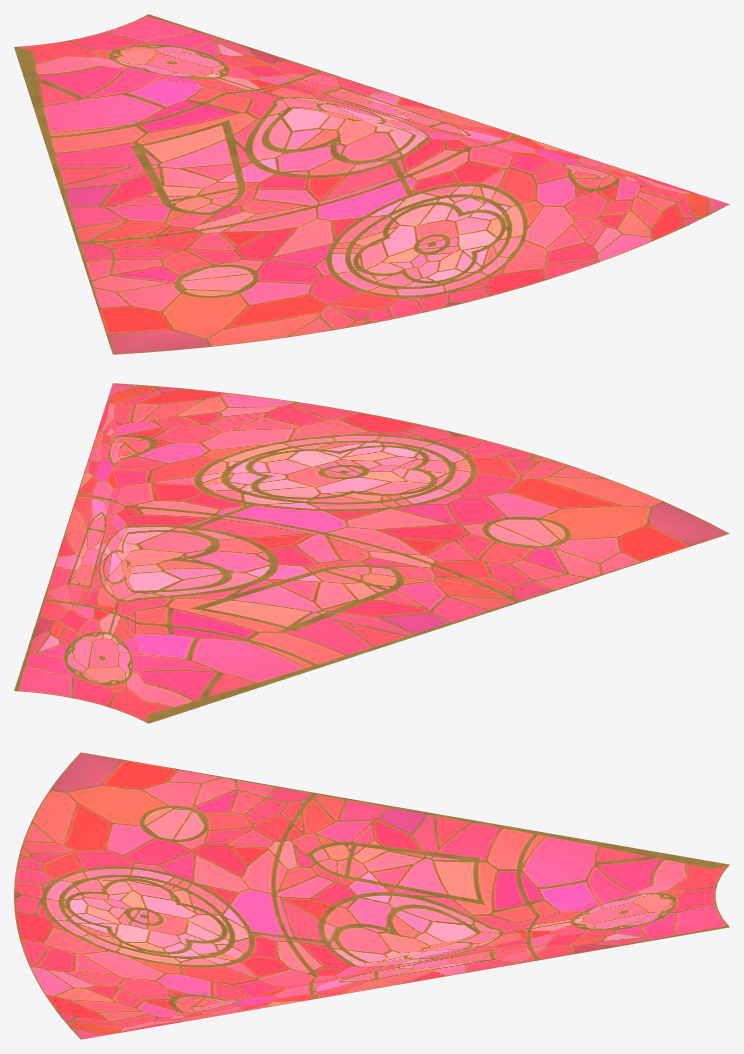
File: lb_wedgelit_0.glb
3 views of the same model, one above another, from view 1: azimuth 30°, elevation 25°; view 2: azimuth 150°, elevation 25°; view 3: azimuth 270°, elevation 25° (orthographic). The views are drawn at different scales.
Parts seen in each view (by area): view 1: lb_wedgelit_0; view 2: lb_wedgelit_0; view 3: lb_wedgelit_0.
Boxes of the visible parts, <box> form: lb_wedgelit_0: <box>14,14,729,354</box>; lb_wedgelit_0: <box>14,383,729,723</box>; lb_wedgelit_0: <box>14,752,729,1039</box>.
Bounding box in the file's own units: 11.32 × 0 × 11.92.
1 material, 1 textured.
